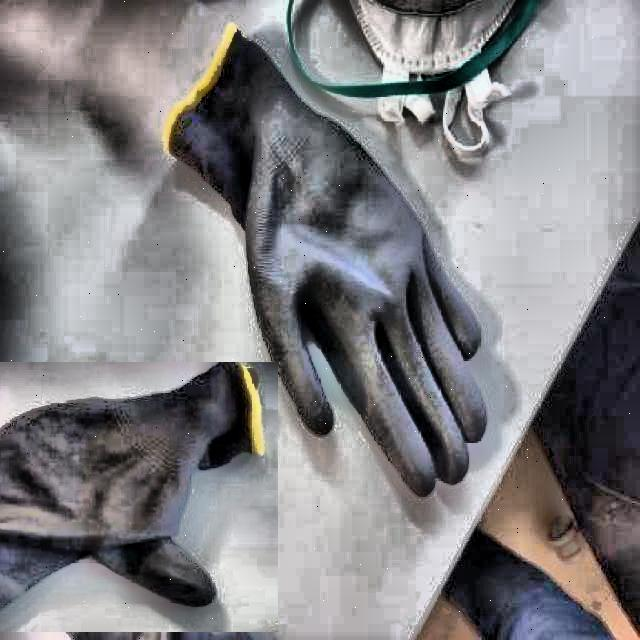gloved: (162, 25, 493, 500), (0, 358, 274, 636)
